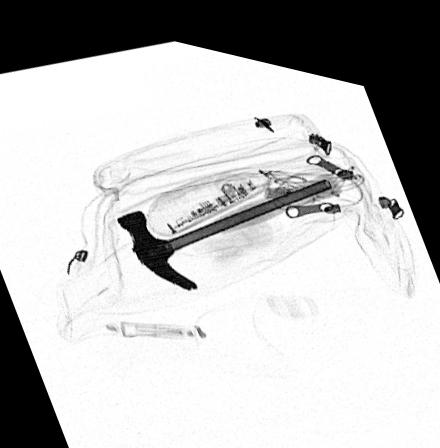Hammer: (115, 163, 333, 284)
